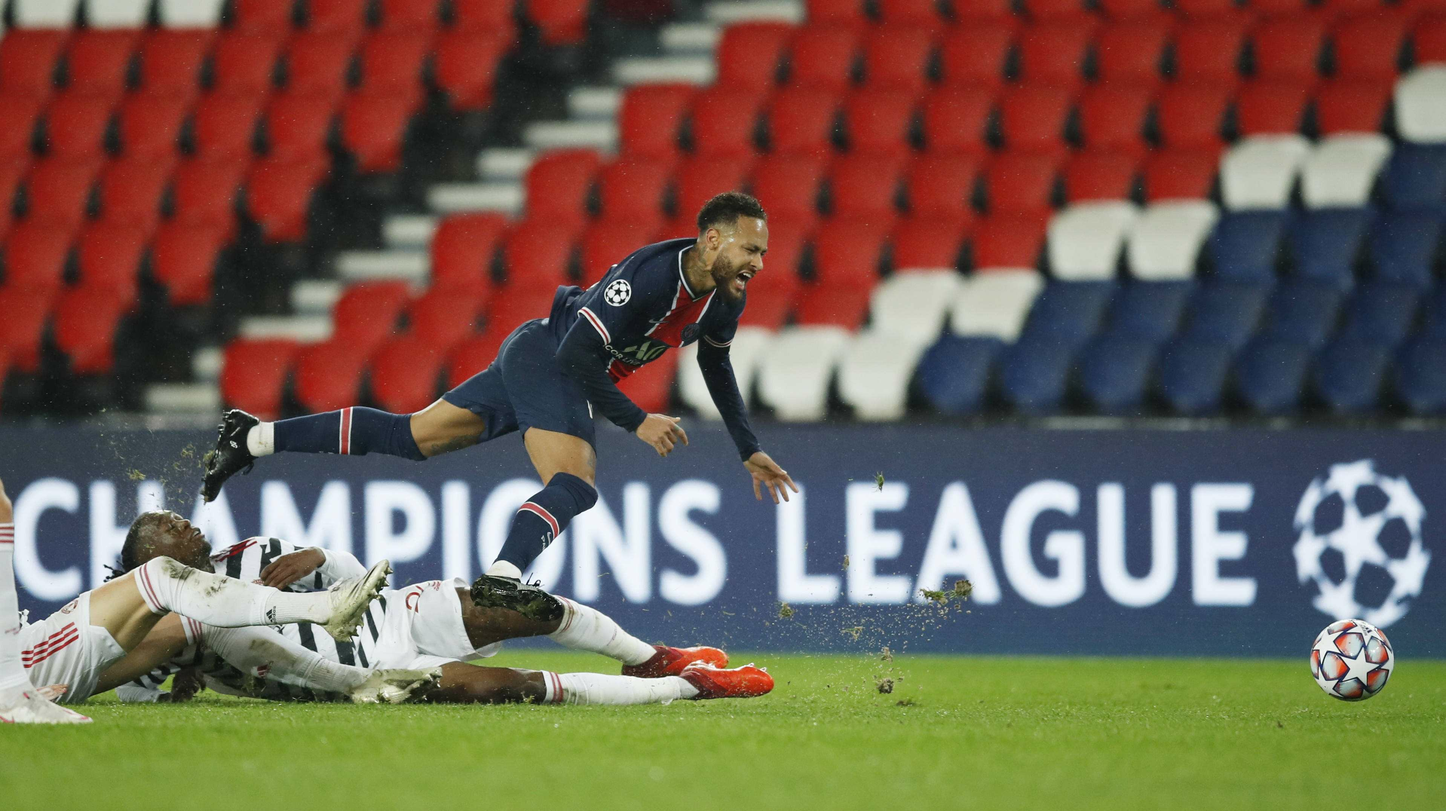football: (1307, 617, 1399, 705)
